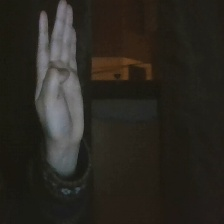B: (31, 1, 102, 150)
